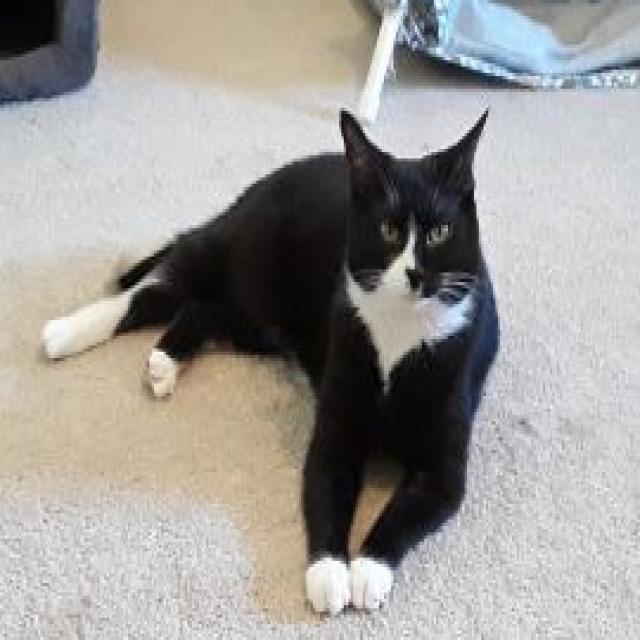Tuxedo: (42, 101, 504, 618)
